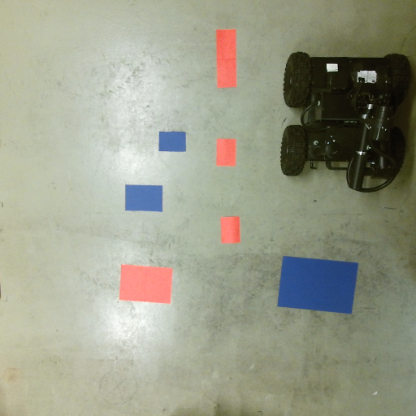Blue: (276, 256, 358, 313), (125, 185, 164, 211), (158, 132, 188, 153)
Jaguar: (279, 49, 412, 196)
Red: (117, 263, 175, 306), (214, 28, 239, 90), (213, 136, 239, 169), (219, 215, 241, 245)
